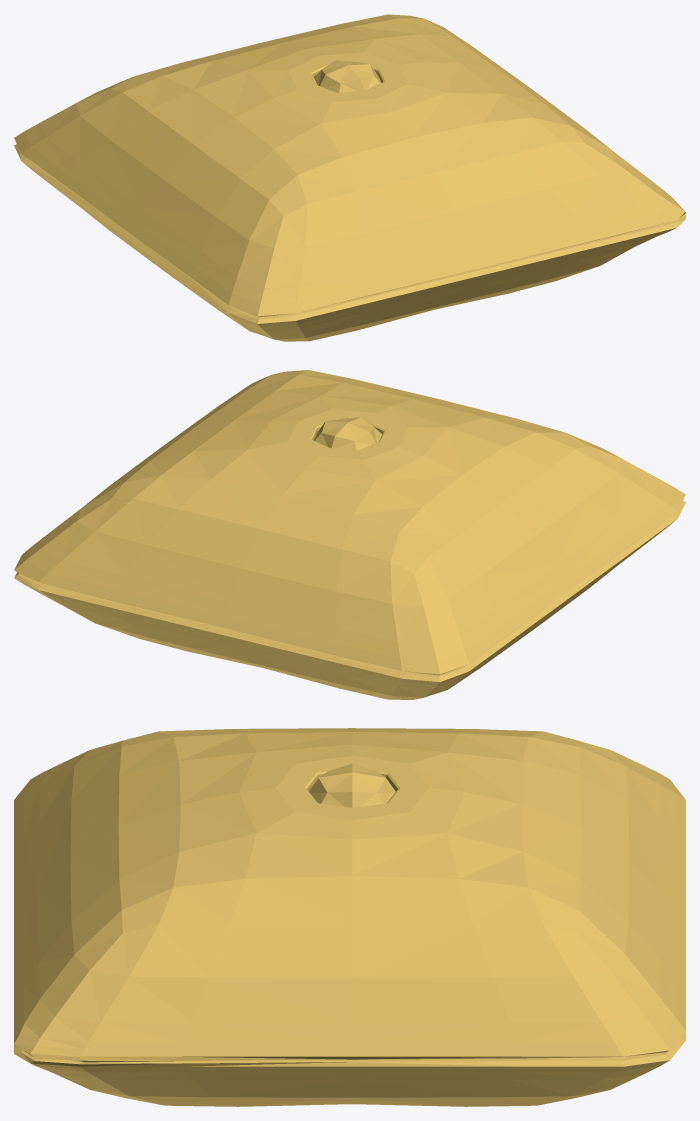
The model's file is Chushion.fbx.
3 renders of one model, top to bottom at view 1: azimuth 30°, elevation 25°; view 2: azimuth 150°, elevation 25°; view 3: azimuth 270°, elevation 25°, orthographic. The views are drawn at different scales.
Visible parts, largest first — view 1: Chushion; view 2: Chushion; view 3: Chushion.
Boxes of the visible parts, bbox=[...] form: Chushion: bbox=[14, 14, 685, 341]; Chushion: bbox=[14, 370, 685, 699]; Chushion: bbox=[14, 728, 685, 1106].
Bounding box in the file's own units: 1.41 × 0.6345 × 1.41.
